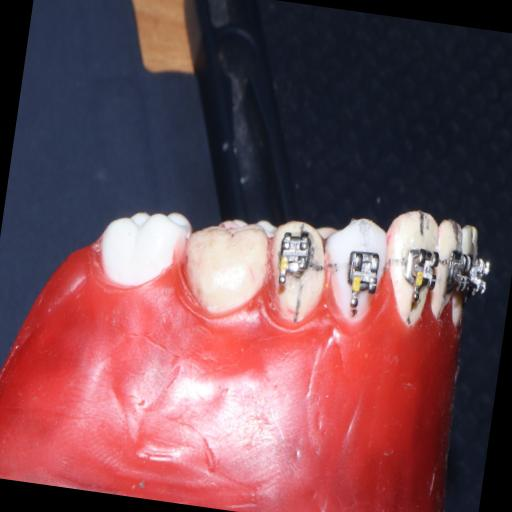incorrect_brace: (276, 233, 314, 280)
